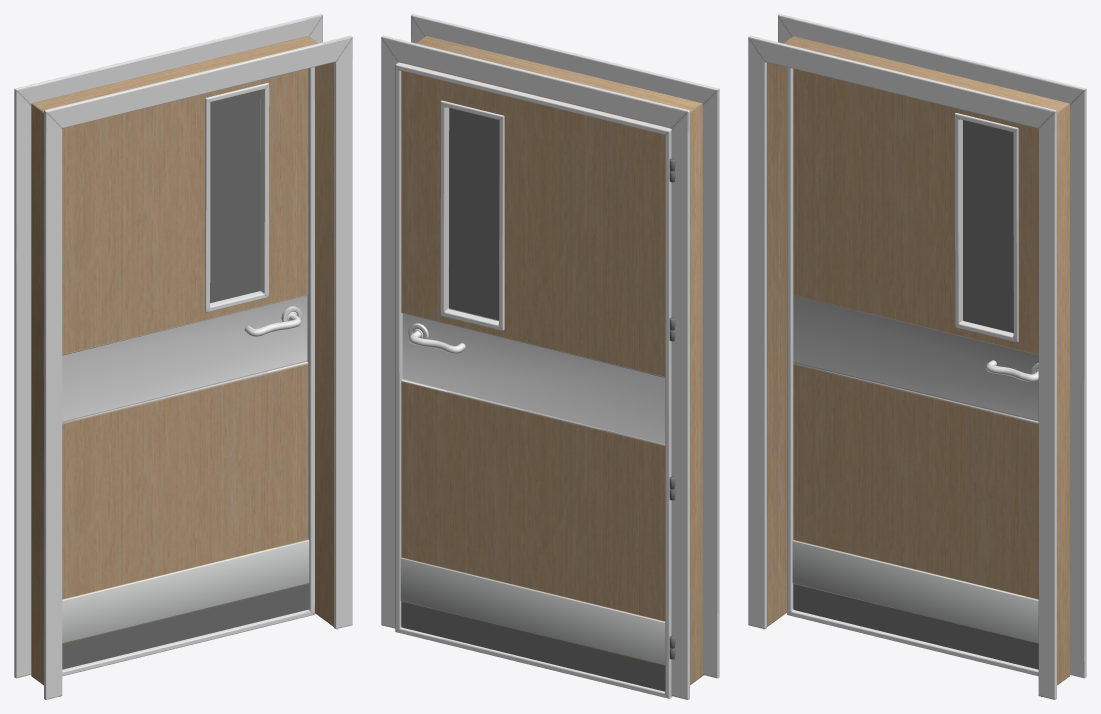
The model's file is hospitaldoor.glb.
3 views of the same model, side by side, from view 1: azimuth 30°, elevation 25°; view 2: azimuth 150°, elevation 25°; view 3: azimuth 330°, elevation 25° (orthographic).
Parts seen in each view (by area): view 1: SingkeHospitalDoor, SingkeHospitalDoor.001; view 2: SingkeHospitalDoor, SingkeHospitalDoor.001; view 3: SingkeHospitalDoor, SingkeHospitalDoor.001.
Boxes of the visible parts, <box> form: SingkeHospitalDoor: <box>62,67,314,676</box>; SingkeHospitalDoor.001: <box>14,14,352,699</box>; SingkeHospitalDoor: <box>395,62,675,698</box>; SingkeHospitalDoor.001: <box>381,14,719,699</box>; SingkeHospitalDoor: <box>787,67,1038,676</box>; SingkeHospitalDoor.001: <box>748,14,1086,699</box>.
Size of the model in its own units: 1.14 by 2.09 by 0.2646.
1 material, 1 textured.
